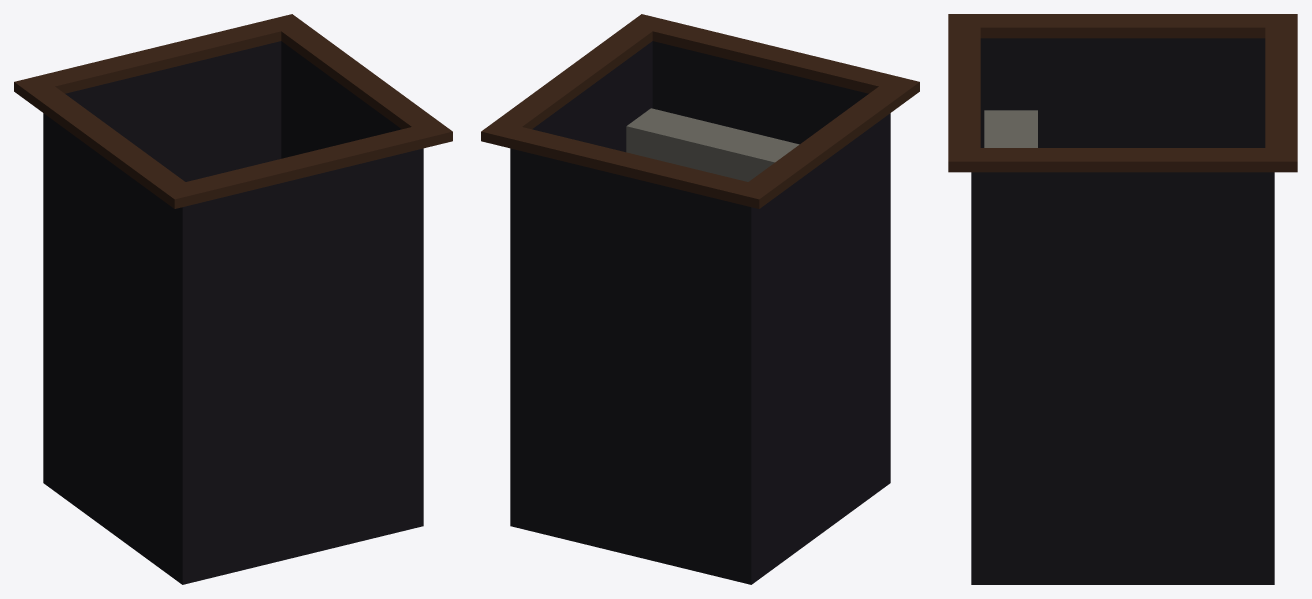
Rendered from stairs_down.glb.
3 renders of one model, left to right at view 1: azimuth 30°, elevation 25°; view 2: azimuth 150°, elevation 25°; view 3: azimuth 270°, elevation 25°, orthographic. The views are drawn at different scales.
Parts seen in each view (by area): view 1: stairs_down; view 2: stairs_down; view 3: stairs_down.
Part boxes in pixels (x1=…): stairs_down: x1=14, y1=14, x2=452, y2=584; stairs_down: x1=481, y1=14, x2=919, y2=584; stairs_down: x1=948, y1=14, x2=1297, y2=584.
Size of the model in its own units: 0.75 by 1.03 by 0.75.
